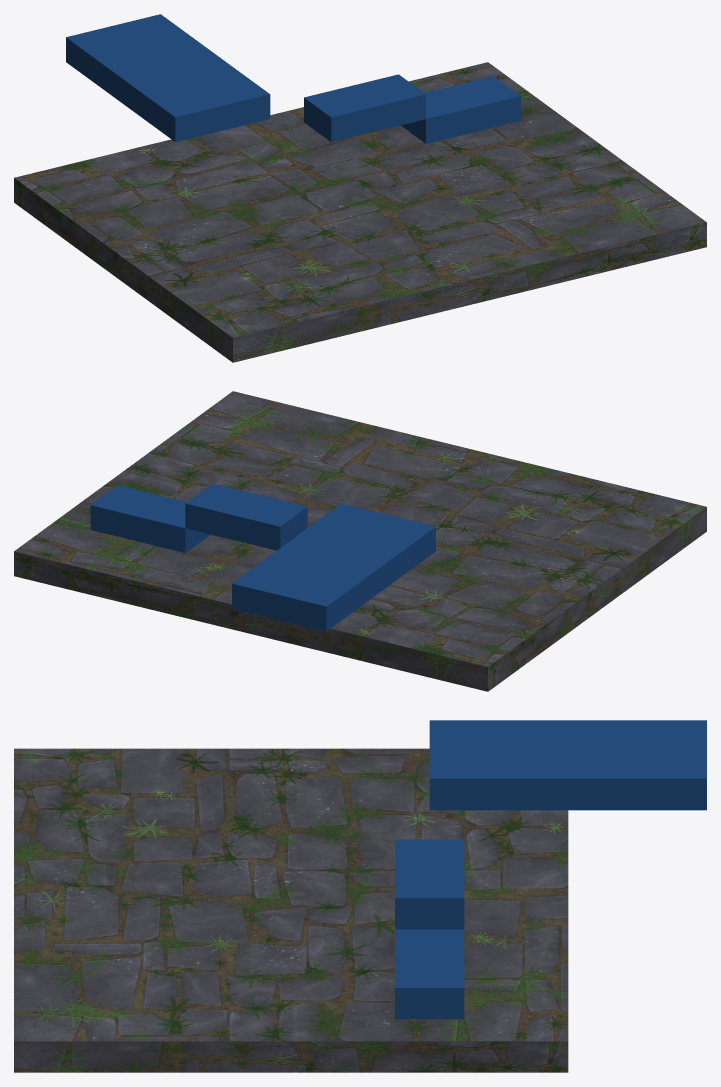
Rendered from Map_DemoTesting.glb.
The picture shows the model from 3 angles, top to bottom: view 1: azimuth 30°, elevation 25°; view 2: azimuth 150°, elevation 25°; view 3: azimuth 270°, elevation 25°; orthographic projection. The views are drawn at different scales.
Visible parts, largest first — view 1: Cube, Cube.003, Cube.002, Cube.001; view 2: Cube, Cube.003, Cube.002, Cube.001; view 3: Cube, Cube.003, Cube.001, Cube.002.
Part boxes in pixels (box(x1,y1,x2,y2)): Cube: box(14, 62, 706, 362); Cube.003: box(66, 14, 270, 141); Cube.002: box(304, 74, 425, 142); Cube.001: box(401, 76, 520, 143); Cube: box(14, 391, 706, 691); Cube.003: box(232, 503, 435, 631); Cube.002: box(185, 483, 307, 550); Cube.001: box(90, 485, 210, 552); Cube: box(14, 748, 568, 1072); Cube.003: box(429, 720, 706, 810); Cube.001: box(395, 929, 464, 1019); Cube.002: box(395, 839, 464, 929).
Bounding box in the file's own units: 40 × 8 × 40.
Materials: 2 (1 with a texture image).
